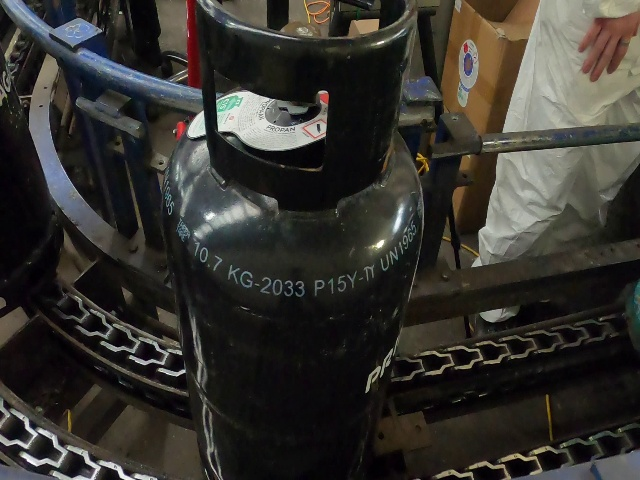gas_bottle: (2, 1, 636, 480)
